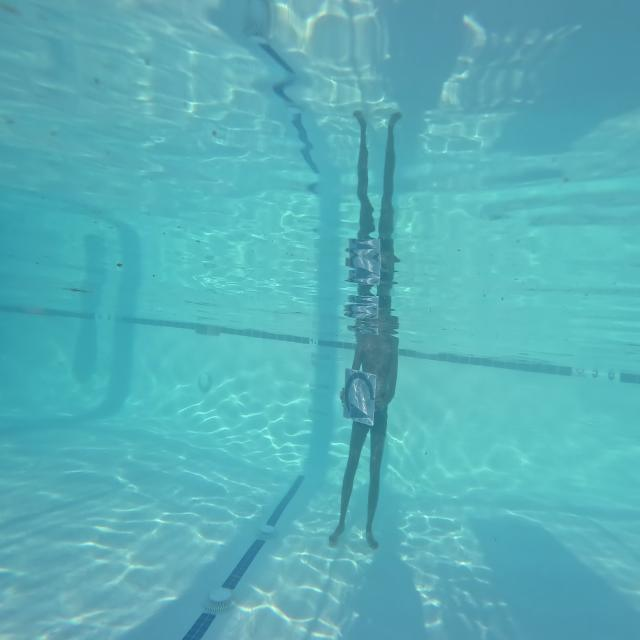blue_side: (342, 361, 385, 428)
